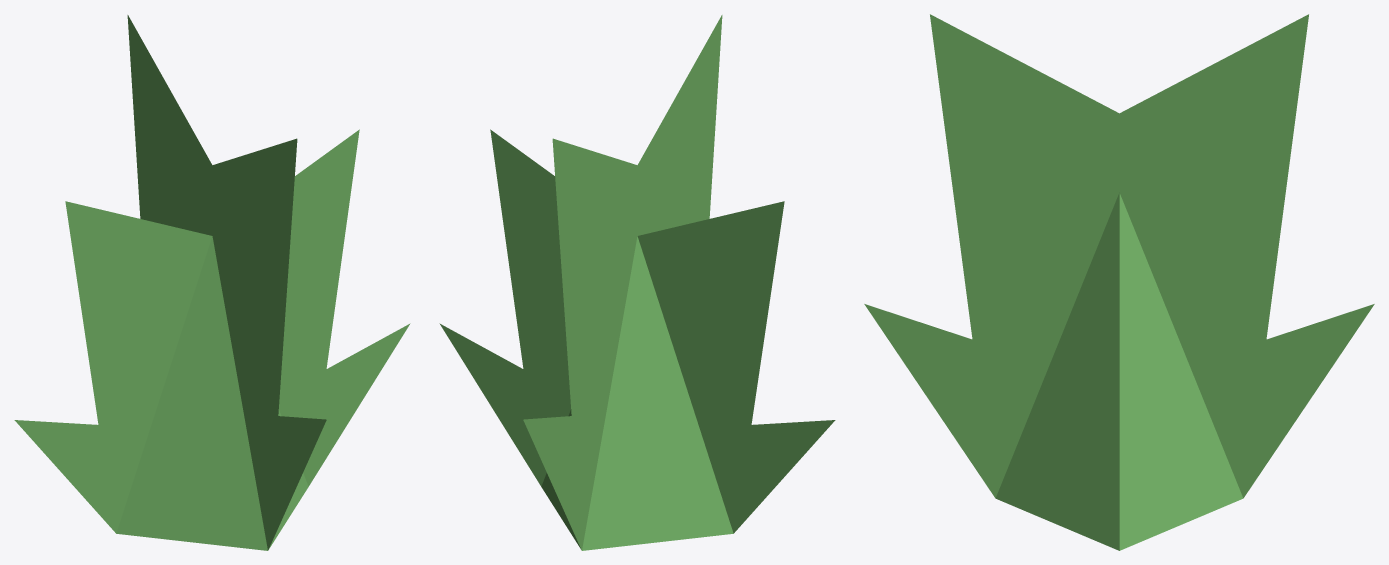
The model's file is nature_fern.glb.
The picture shows the model from 3 angles, left to right: view 1: azimuth 30°, elevation 25°; view 2: azimuth 150°, elevation 25°; view 3: azimuth 270°, elevation 25°; orthographic projection. The views are drawn at different scales.
Parts seen in each view (by area): view 1: plant_flatTall; view 2: plant_flatTall; view 3: plant_flatTall.
Part boxes in pixels (x1,y1,x2,y2): plant_flatTall: (14, 15, 410, 550); plant_flatTall: (439, 15, 835, 550); plant_flatTall: (864, 14, 1374, 550).
Bounding box in the file's own units: 0.5976 × 0.6255 × 0.5976.
